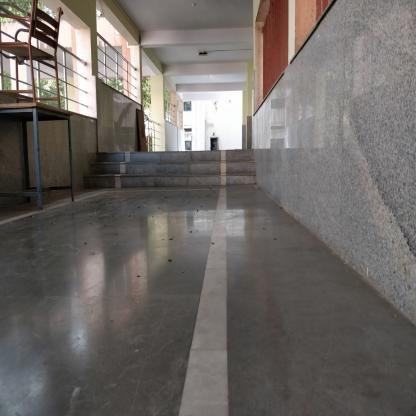stairs: (107, 149, 253, 191)
